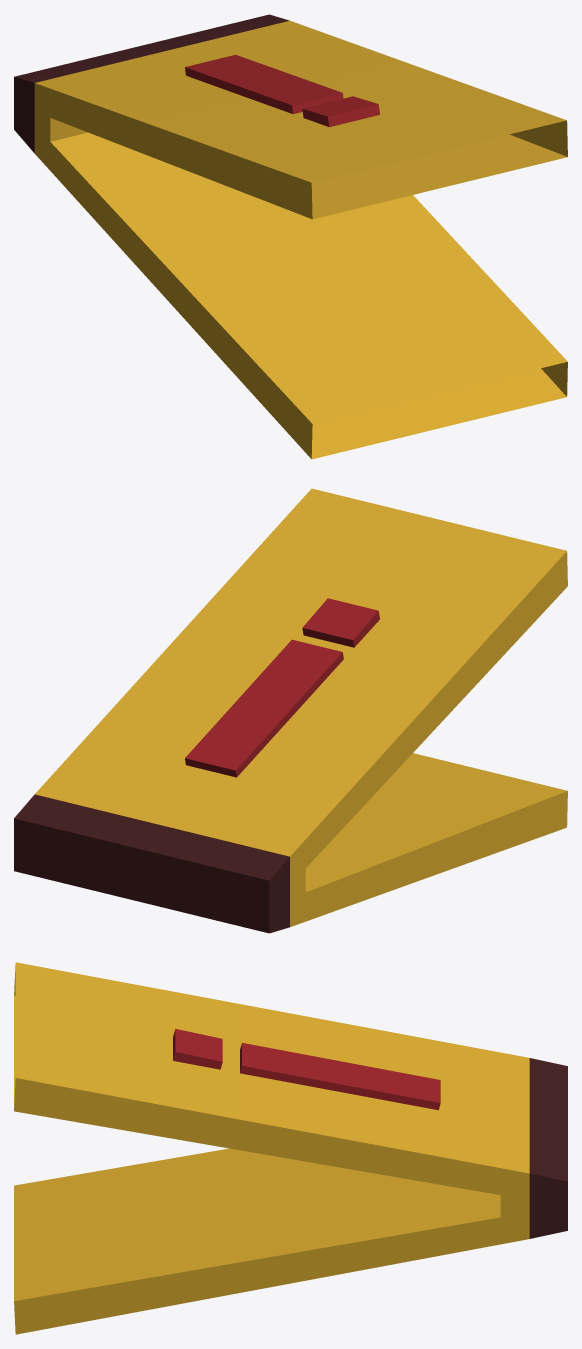
Rendered from Attention Stand 01.FBX.
The picture shows the model from 3 angles, top to bottom: view 1: azimuth 30°, elevation 25°; view 2: azimuth 150°, elevation 25°; view 3: azimuth 270°, elevation 25°; orthographic projection. The views are drawn at different scales.
Visible parts, largest first — view 1: Attention Stand 01; view 2: Attention Stand 01; view 3: Attention Stand 01.
Boxes of the visible parts, box(x1,y1,x2,y2) form: Attention Stand 01: box(14, 14, 567, 459); Attention Stand 01: box(14, 488, 567, 933); Attention Stand 01: box(14, 962, 567, 1334).
Size of the model in its own units: 50.19 by 51.98 by 102.
Materials: 1 (1 with a texture image).
